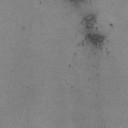iron sheet ash: (84, 32, 104, 46), (82, 14, 96, 29)
